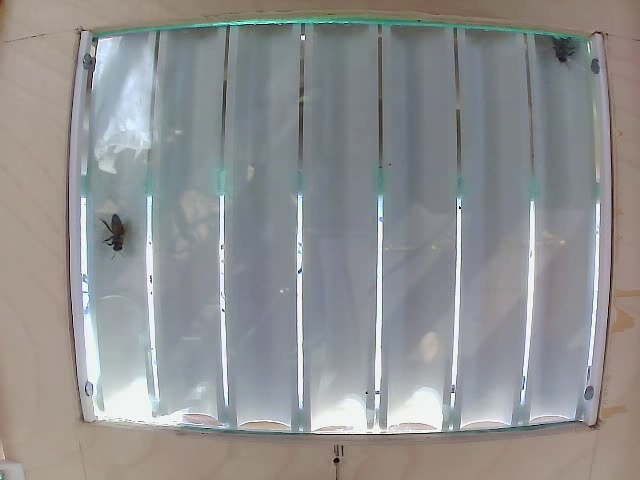bee: (99, 206, 132, 253), (547, 32, 581, 67)
